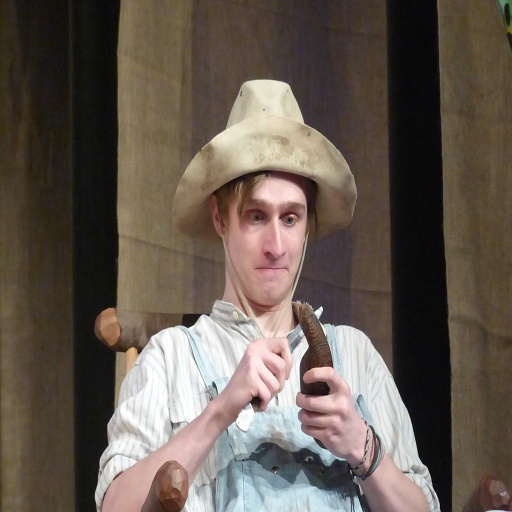hand: (299, 361, 372, 473), (219, 334, 293, 418)
